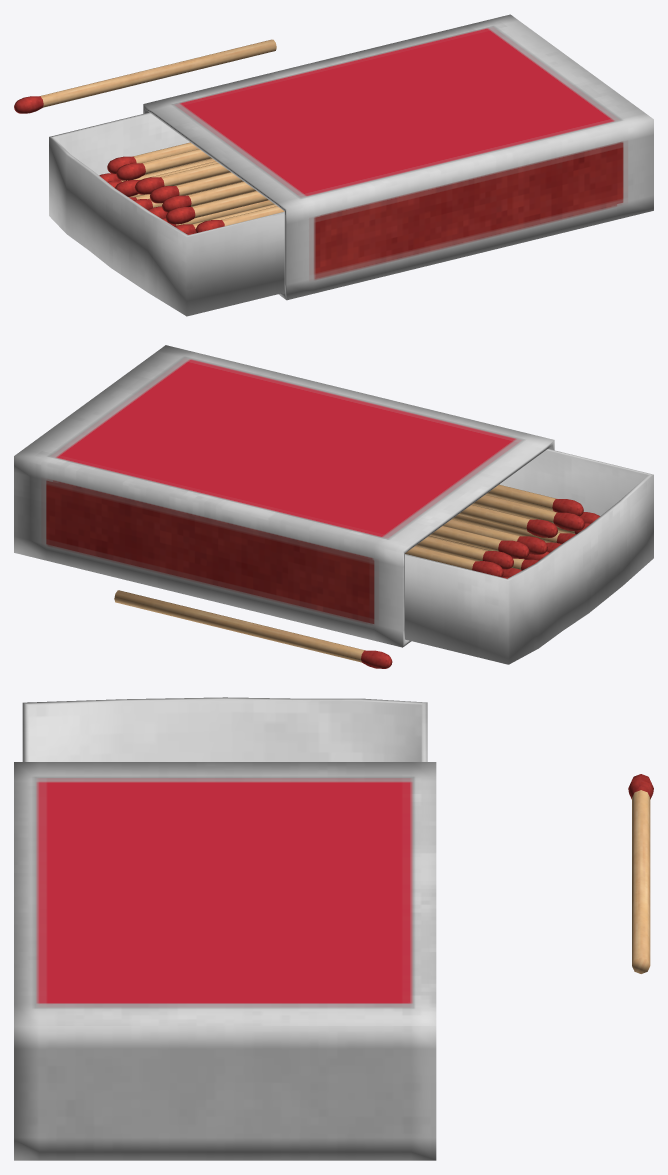
Rendered from marches.fbx.
3 views of the same model, one above another, from view 1: azimuth 30°, elevation 25°; view 2: azimuth 150°, elevation 25°; view 3: azimuth 270°, elevation 25° (orthographic). The views are drawn at different scales.
Visible parts, largest first — view 1: matches_body, matches_inside, matches, matches_piece; view 2: matches_body, matches_inside, matches, matches_piece; view 3: matches_body, matches_inside, matches_piece.
Boxes of the visible parts, x1,y1,x2,y2 form: matches_body: (143,14,653,300); matches_inside: (49,112,284,316); matches: (99,142,284,234); matches_piece: (14,39,276,113); matches_body: (14,345,554,647); matches_inside: (405,449,653,664); matches: (405,484,599,578); matches_piece: (114,590,392,668); matches_body: (14,762,436,1160); matches_inside: (22,697,427,761); matches_piece: (628,774,653,973).
Bounding box in the file's own units: 57.52 × 10.65 × 45.91.
